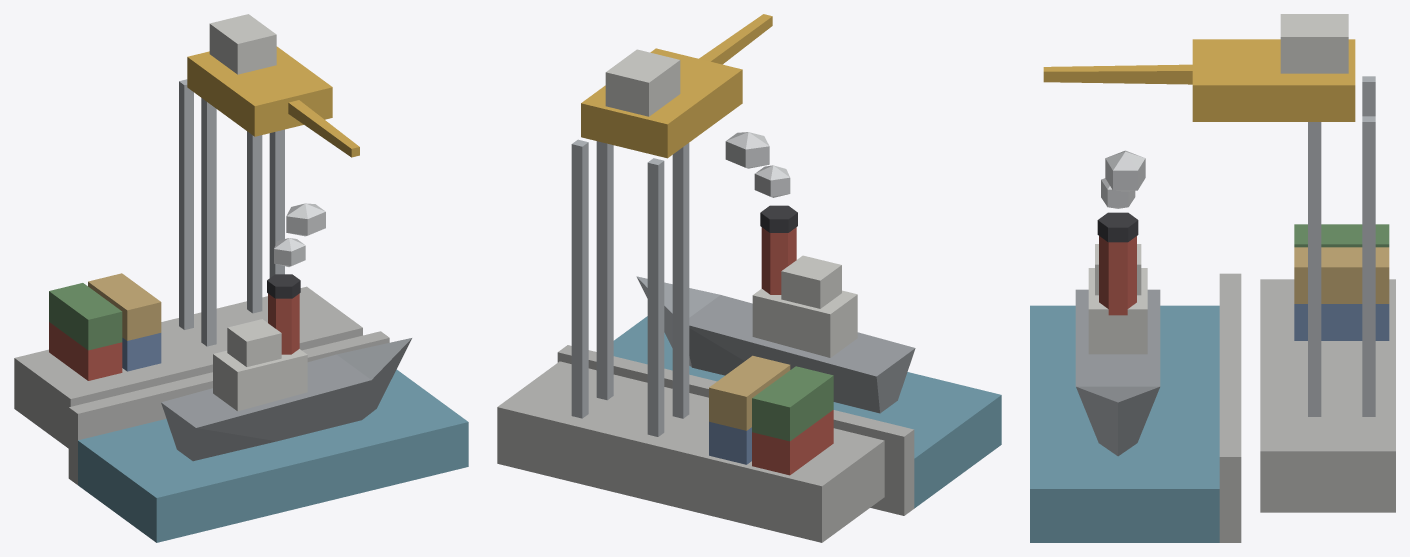
File: seaport.glb
3 views of the same model, side by side, from view 1: azimuth 30°, elevation 25°; view 2: azimuth 150°, elevation 25°; view 3: azimuth 270°, elevation 25° (orthographic). The views are drawn at different scales.
Visible parts, largest first — view 1: LOD0; view 2: LOD0; view 3: LOD0.
Part boxes in pixels (box(x1,y1,x2,y2)): LOD0: box(14, 14, 468, 542); LOD0: box(497, 14, 1001, 542); LOD0: box(1030, 14, 1395, 542).
Size of what is drawn, in the model's own units: 0.32 by 0.37 by 0.27.
